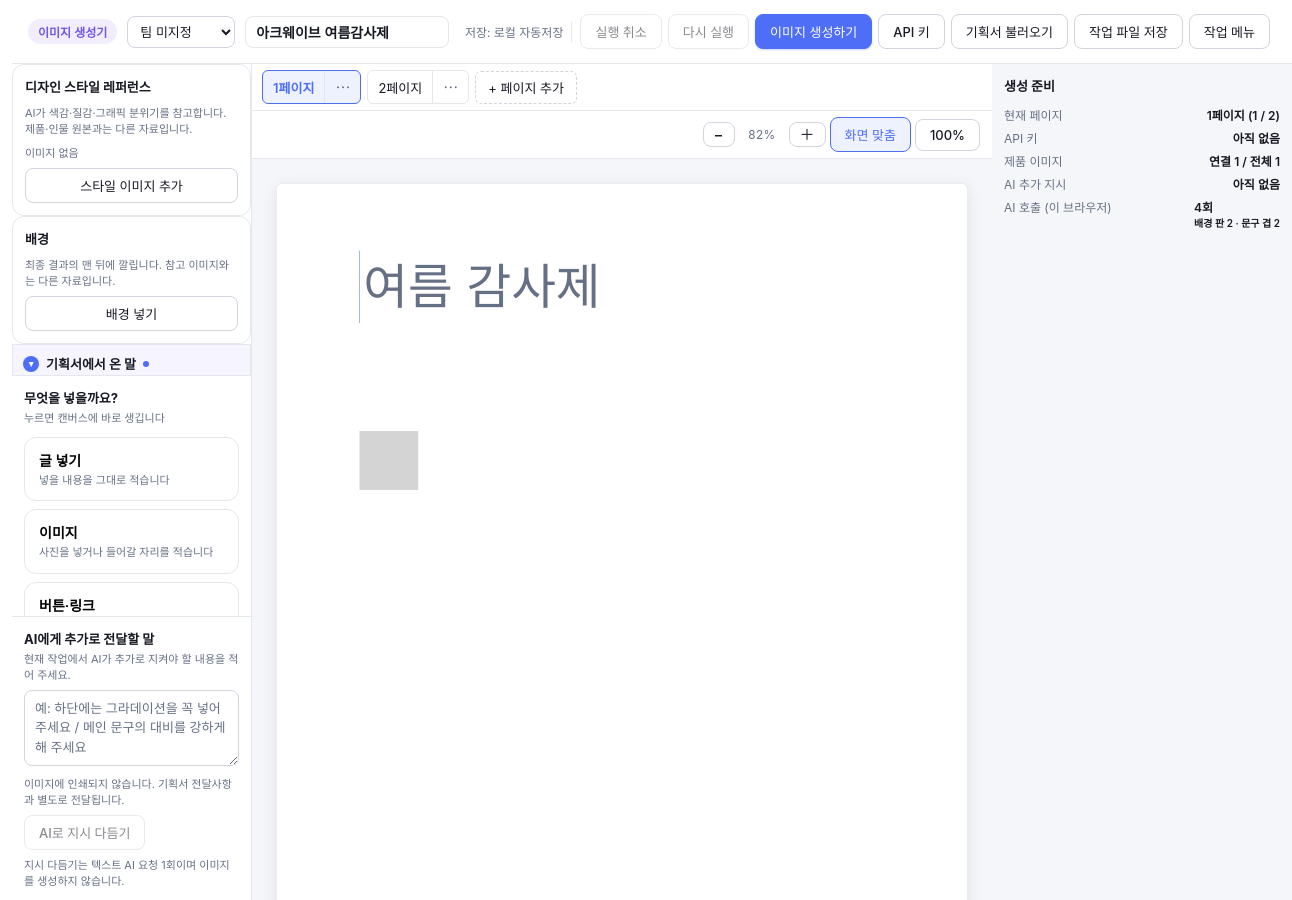
Test: §4 상단은 이미지 만드는 일만 앞에 둔다 › keeps only the irreversible action in 작업 메뉴
Expected: the field with class "editor-topbar__title" holds "아크웨이브 여름감사제", [245,16,449,48]
Expected: the button "Studio 작업 초기화" is not shown
Click the button "작업 메뉴" at [1229, 32], box [1189,14,1270,49]
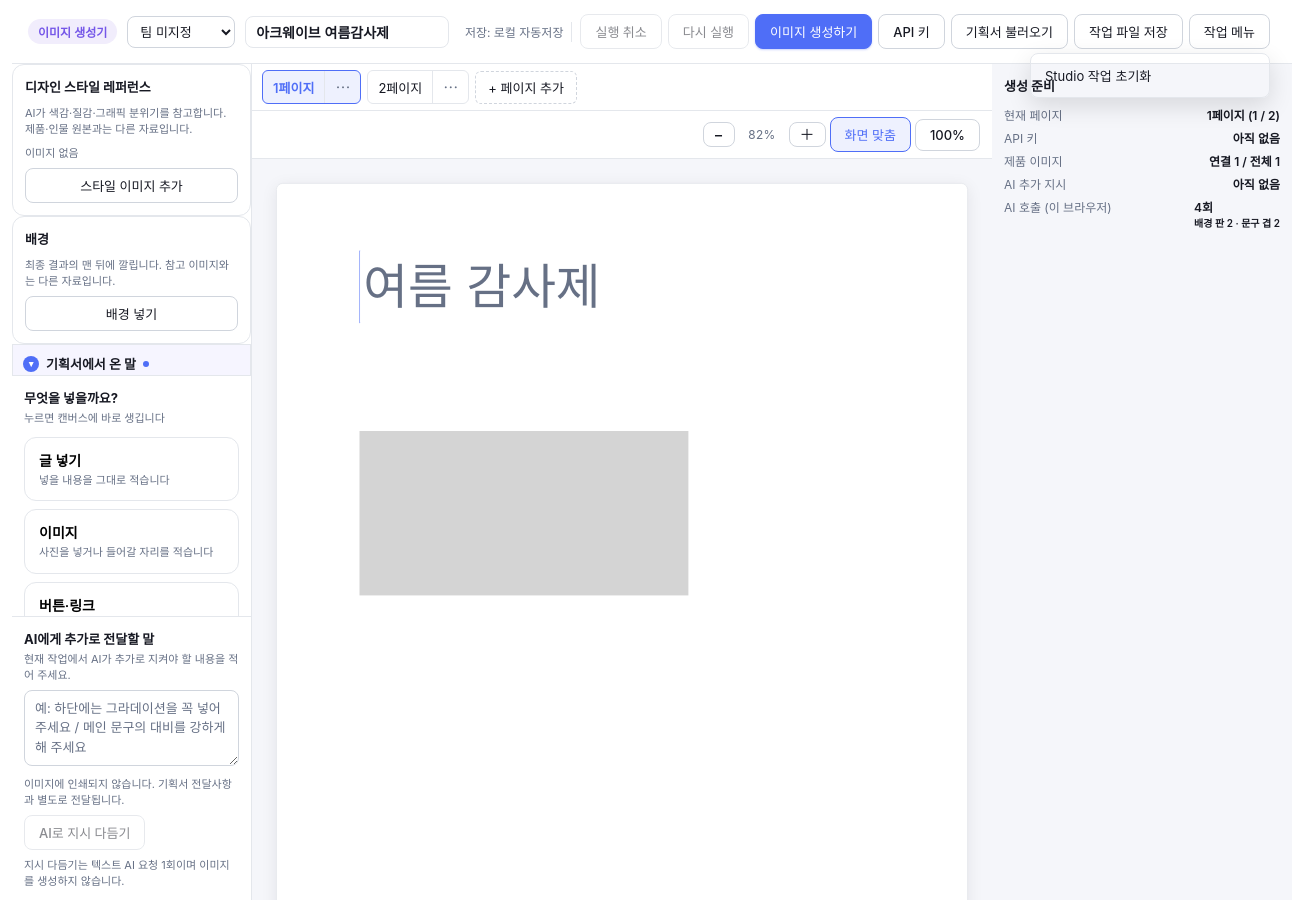
Expected: the button "Studio 작업 초기화" is shown, [1035,58,1265,93]
